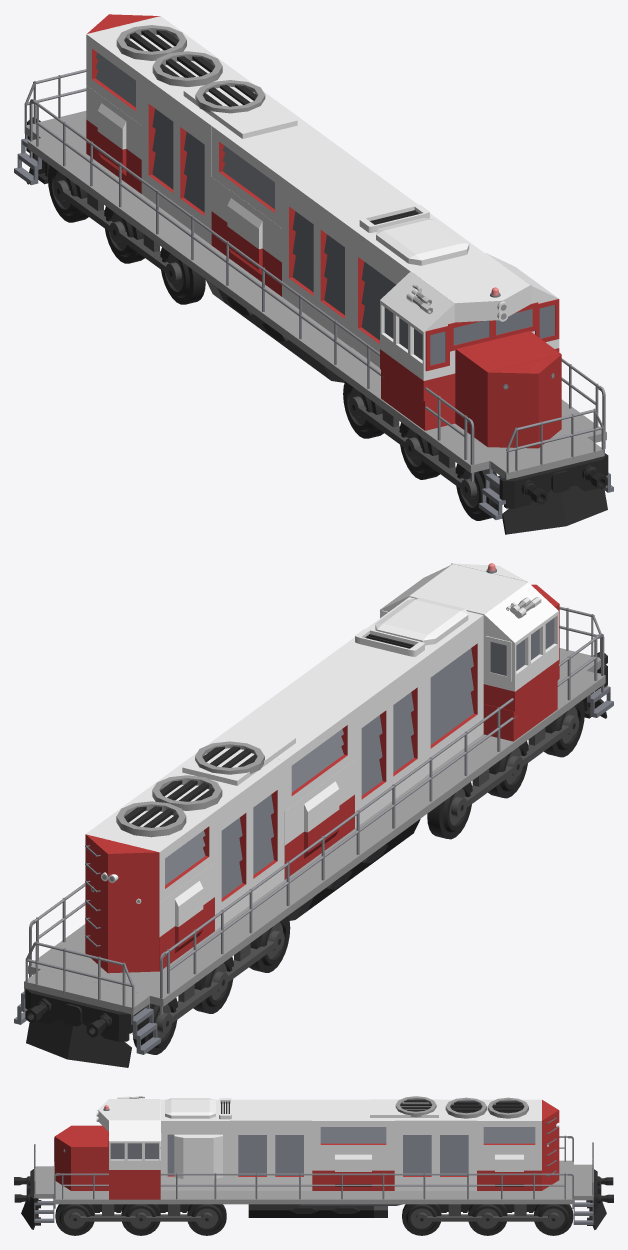
3 renders of one model, top to bottom at view 1: azimuth 30°, elevation 25°; view 2: azimuth 150°, elevation 25°; view 3: azimuth 270°, elevation 25°, orthographic. The views are drawn at different scales.
Parts seen in each view (by area): view 1: block (×7), body_vents (×2), body_vent (×3), body_detail (×2), roof (×2), wheel_medium (×6), grate_round (×3), bogie_frame_connection (×4), 02 Bus Middle 01, window_small (×4), 02 Car Bumper 02, block_bevel (+5 smaller); view 2: block (×5), body_vents (×2), body_vent (×3), roof, body_detail (×2), wheel_medium (×6), grate_round (×3), bogie_frame_connection (×4), 02 Bus Middle 01, 02 Car Bumper 02, block_bevel, attachment_barrelThin (×2) (+5 smaller); view 3: block (×7), body_vents (×2), body_vent (×3), body_detail (×2), wheel_medium (×6), bogie_frame_connection (×4), roof (×3), attachment_barrelThin (×2), diesel_front_basic, 02 Bus Middle 01, grate_round (×3), steam_engine_round (+5 smaller).
Part boxes in pixels (box(x1,y1,x2,y2)): block (×7): box(24, 77, 606, 479); body_vents (×2): box(141, 56, 418, 347); body_vent (×3): box(86, 16, 484, 367); body_detail (×2): box(86, 85, 281, 296); roof (×2): box(454, 284, 561, 448); wheel_medium (×6): box(48, 165, 502, 520); grate_round (×3): box(116, 25, 265, 113); bogie_frame_connection (×4): box(53, 180, 477, 499); 02 Bus Middle 01: box(380, 300, 559, 400); window_small (×4): box(425, 299, 559, 371); 02 Car Bumper 02: box(502, 485, 607, 534); block_bevel: box(376, 217, 469, 265); block (×5): box(24, 564, 605, 1015); body_vents (×2): box(141, 640, 424, 930); body_vent (×3): box(85, 597, 483, 902); roof: box(85, 834, 159, 973); body_detail (×2): box(85, 760, 354, 971); wheel_medium (×6): box(132, 700, 584, 1054); grate_round (×3): box(116, 741, 264, 837); bogie_frame_connection (×4): box(156, 714, 579, 1033); 02 Bus Middle 01: box(380, 610, 558, 711); 02 Car Bumper 02: box(26, 1019, 131, 1067); block_bevel: box(375, 598, 468, 645); attachment_barrelThin (×2): box(164, 698, 517, 970); block (×7): box(34, 1099, 593, 1204); body_vents (×2): box(230, 1099, 476, 1190); body_vent (×3): box(161, 1099, 541, 1190); body_detail (×2): box(312, 1151, 541, 1190); wheel_medium (×6): box(55, 1204, 573, 1235); bogie_frame_connection (×4): box(69, 1204, 559, 1224); roof (×3): box(54, 1099, 559, 1190); attachment_barrelThin (×2): box(160, 1173, 567, 1186); diesel_front_basic: box(174, 1134, 222, 1178); 02 Bus Middle 01: box(109, 1141, 160, 1181); grate_round (×3): box(395, 1096, 528, 1118); steam_engine_round: box(248, 1204, 387, 1217).
Bounding box in the file's own units: 2.73 × 3.82 × 17.74.
